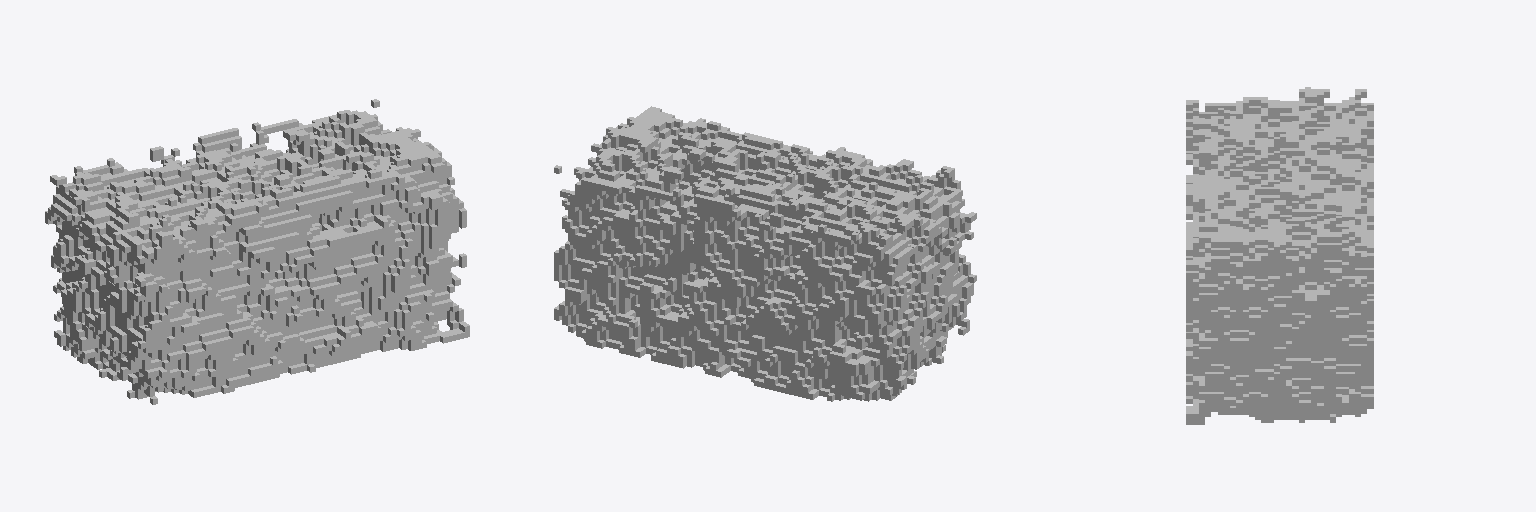
The model's file is arbusto.obj.
3 renders of one model, left to right at view 1: azimuth 30°, elevation 25°; view 2: azimuth 150°, elevation 25°; view 3: azimuth 270°, elevation 25°, orthographic.
Visible parts, largest first — view 1: object 1; view 2: object 1; view 3: object 1.
Boxes of the visible parts, x1=… form: object 1: x1=45, y1=99, x2=469, y2=404; object 1: x1=554, y1=106, x2=976, y2=401; object 1: x1=1186, y1=87, x2=1373, y2=424.
Bounding box in the file's own units: 6.2 × 3.1 × 3.